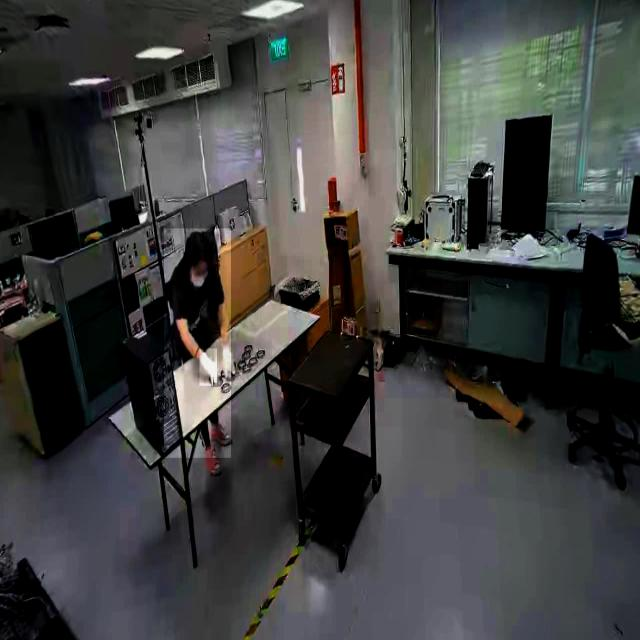face_mask: (188, 256, 206, 295)
hand_glove: (218, 342, 236, 382), (199, 348, 217, 386)
head_nohelmet: (184, 230, 216, 256)
person: (163, 228, 231, 458)
shoes: (203, 438, 223, 479), (206, 419, 232, 449)
